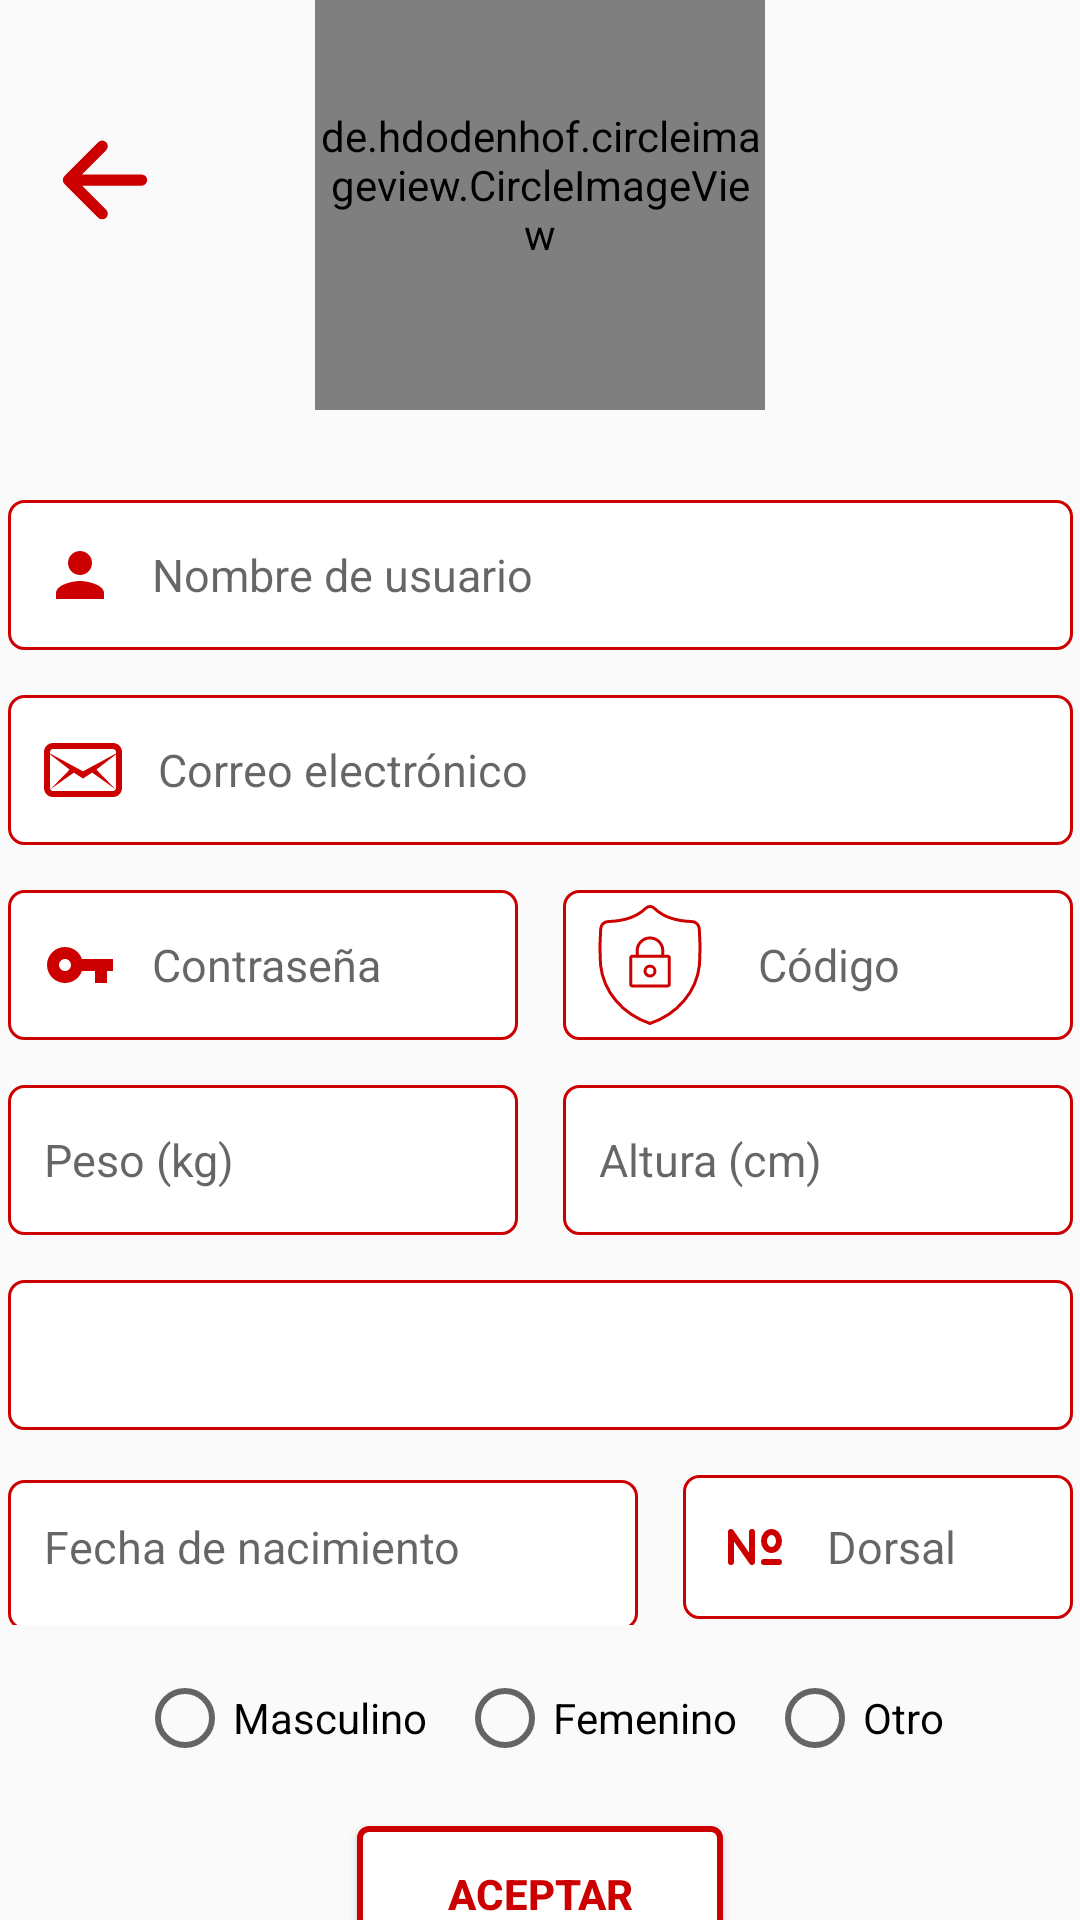

Icon click points for this 1080×1920 phone screenshot, format (x,y):
back: (104,180)
